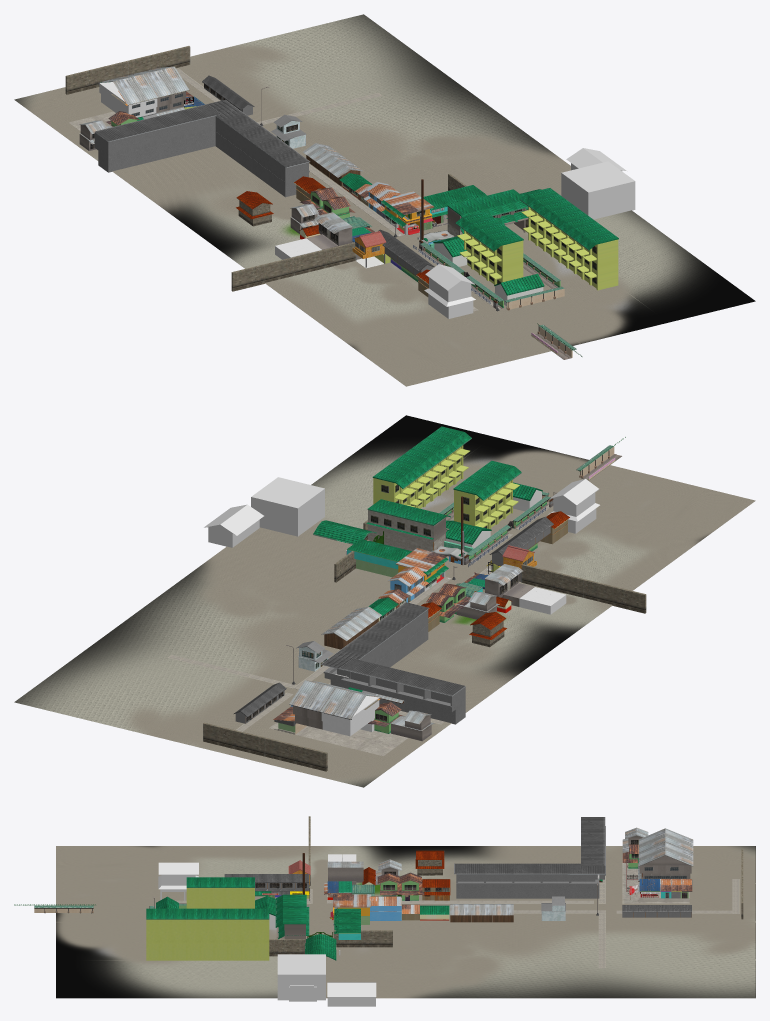
File: map tinroses.fbx
3 renders of one model, top to bottom at view 1: azimuth 30°, elevation 25°; view 2: azimuth 150°, elevation 25°; view 3: azimuth 270°, elevation 25°, orthographic. The views are drawn at different scales.
Parts seen in each view (by area): view 1: Plane, Cube.036, Cube.021, Cube.008, Cube.032, Cube.086, Cube.087, Cube.031, Cube.007, Cube.003, Cube.071, house.001 (+18 smaller); view 2: Plane, Cube.036, Cube.021, Cube.032, Cube.008, Cube.086, Cube.007, Cube.087, Cube.031, Cube.071, Cube.003, Cube.063 (+20 smaller); view 3: Plane, Cube.036, Cube.008, Cube.032, Cube.086, Cube.071, Cube.007, Cube.021, house, house.001, Cube.003, SeguerraStore.003 (+27 smaller).
Part boxes in pixels (x1,y1,x2,y2): Plane: [14, 14, 755, 386]; Cube.036: [520, 188, 618, 290]; Cube.021: [94, 104, 220, 172]; Cube.008: [221, 114, 310, 197]; Cube.032: [455, 211, 523, 285]; Cube.086: [561, 161, 635, 219]; Cube.087: [231, 242, 356, 291]; Cube.031: [65, 46, 190, 94]; Cube.007: [446, 189, 528, 236]; Cube.003: [424, 264, 475, 318]; Cube.071: [97, 66, 189, 105]; house.001: [303, 143, 363, 186]; Plane: [14, 415, 755, 787]; Cube.036: [372, 426, 471, 508]; Cube.021: [339, 658, 465, 724]; Cube.032: [453, 460, 521, 529]; Cube.008: [341, 602, 429, 667]; Cube.086: [251, 477, 324, 536]; Cube.007: [366, 499, 450, 551]; Cube.087: [521, 564, 646, 613]; Cube.031: [203, 722, 327, 771]; Cube.071: [289, 680, 380, 719]; Cube.003: [548, 479, 599, 533]; Cube.063: [269, 722, 407, 756]; Plane: [56, 846, 755, 998]; Cube.036: [146, 908, 269, 960]; Cube.008: [454, 863, 570, 898]; Cube.032: [186, 877, 254, 908]; Cube.086: [277, 954, 325, 1000]; Cube.071: [638, 828, 693, 866]; Cube.007: [275, 894, 309, 942]; Cube.021: [581, 817, 605, 879]; house: [327, 982, 376, 1006]; house.001: [450, 904, 513, 922]; Cube.003: [158, 862, 198, 900]; SeguerraStore.003: [224, 874, 309, 891].
Bounding box in the file's own units: 1726 × 278 × 3068.
